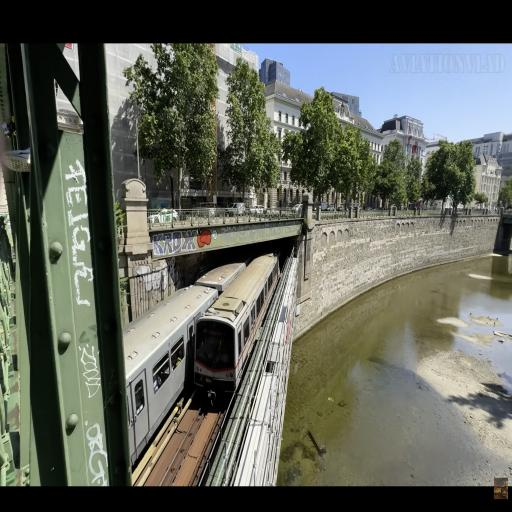V-Wagen: (192, 246, 282, 392)
